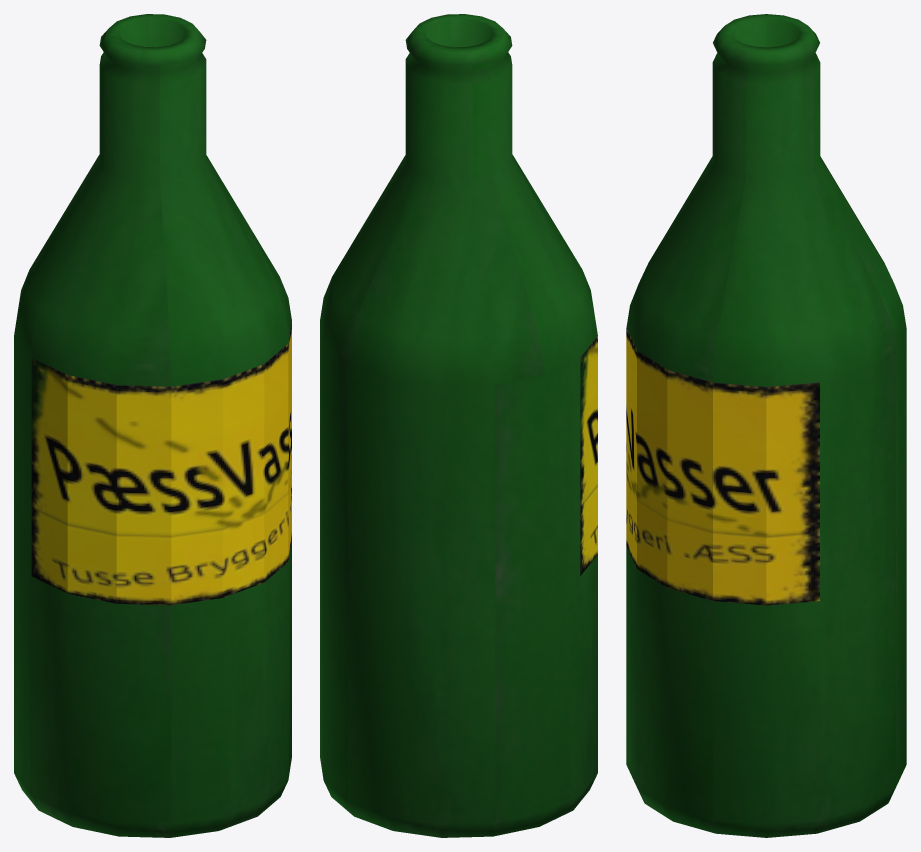
The model's file is OlFlaske.glb.
The picture shows the model from 3 angles, left to right: view 1: azimuth 30°, elevation 25°; view 2: azimuth 150°, elevation 25°; view 3: azimuth 270°, elevation 25°; orthographic projection.
Parts seen in each view (by area): view 1: OlFlaske; view 2: OlFlaske; view 3: OlFlaske.
Part boxes in pixels (x1,y1,x2,y2): OlFlaske: (14,14,291,837); OlFlaske: (320,14,597,837); OlFlaske: (626,14,906,837).
Bounding box in the file's own units: 0.6782 × 2.02 × 0.6782.
1 material, 1 textured.
